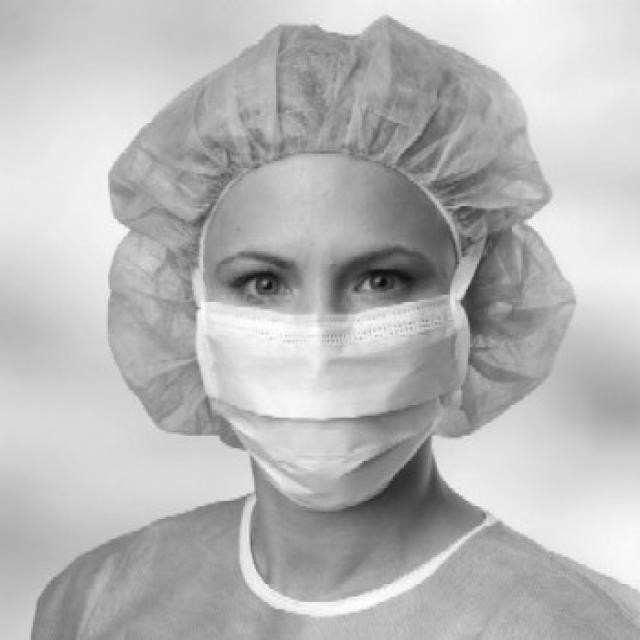fake: (148, 263, 524, 532)
real: (208, 158, 454, 517)
